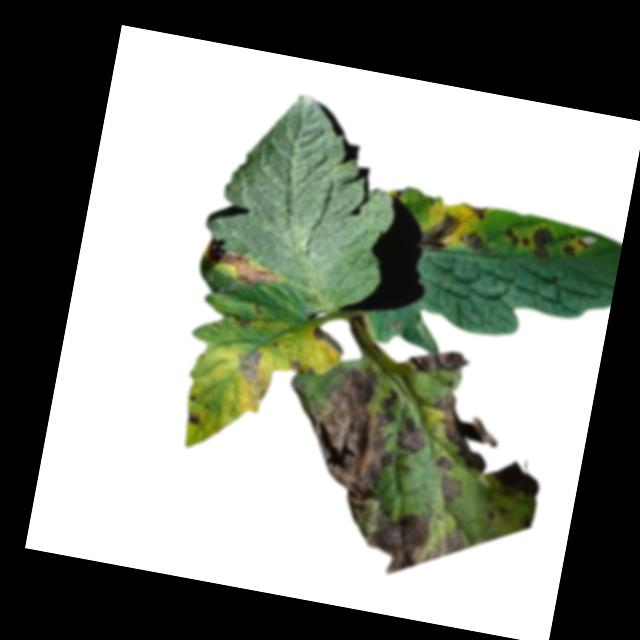Early_blight: (292, 354, 414, 505), (347, 498, 470, 588), (421, 386, 506, 474), (199, 232, 286, 289), (409, 338, 473, 382), (232, 345, 276, 402), (491, 454, 549, 497), (420, 209, 464, 256), (392, 412, 429, 456), (560, 227, 598, 261), (435, 471, 467, 511), (531, 221, 559, 261), (310, 322, 346, 353), (464, 229, 498, 258), (502, 223, 534, 251), (464, 199, 492, 223), (289, 355, 306, 374), (187, 407, 203, 426)
